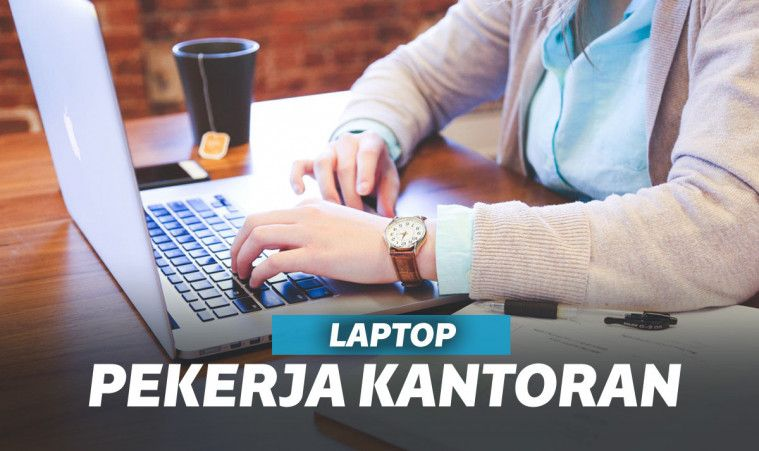Laptop: (4, 2, 490, 362)
